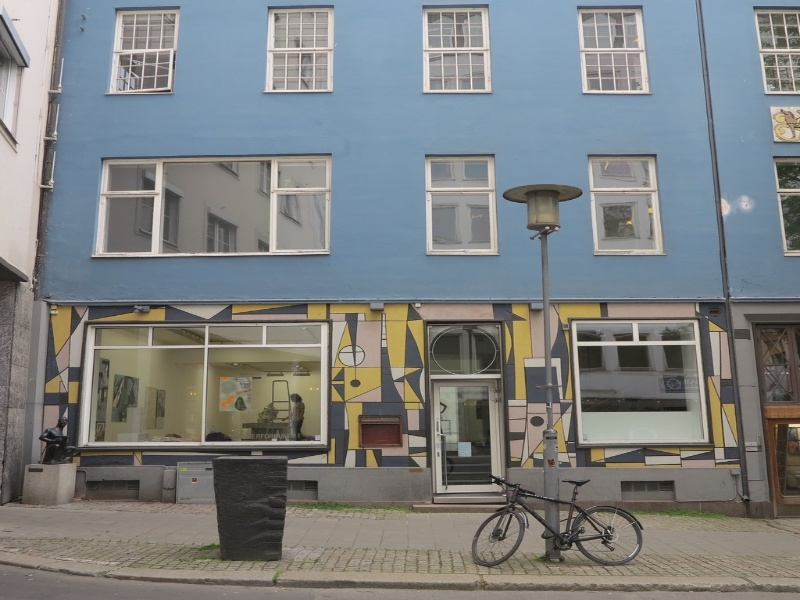bicycle: (468, 469, 644, 571)
